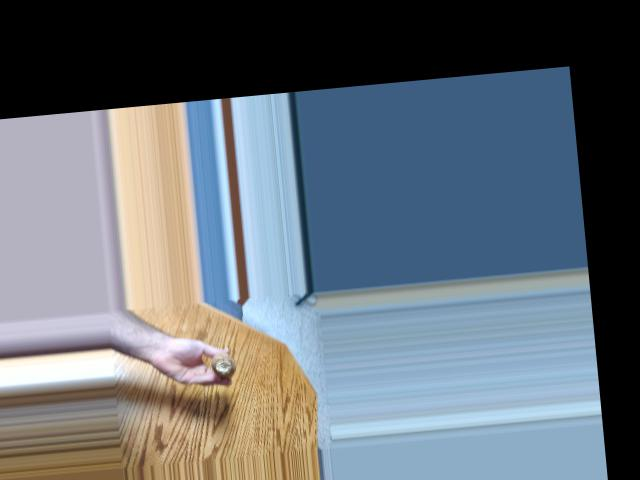sweet_potato: (209, 349, 242, 375)
